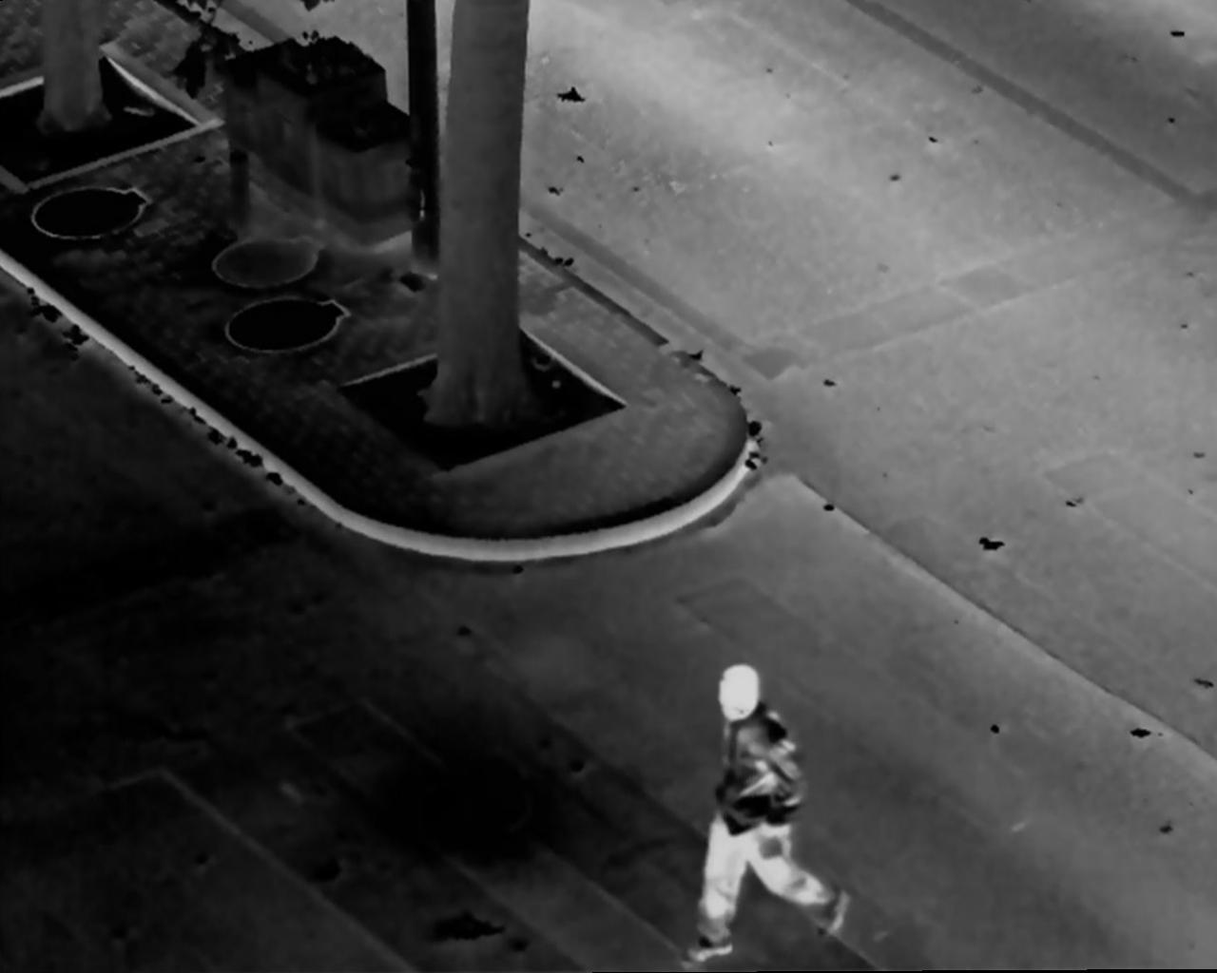person: (684, 659, 849, 963)
